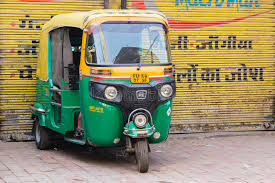auto: (29, 9, 179, 176)
